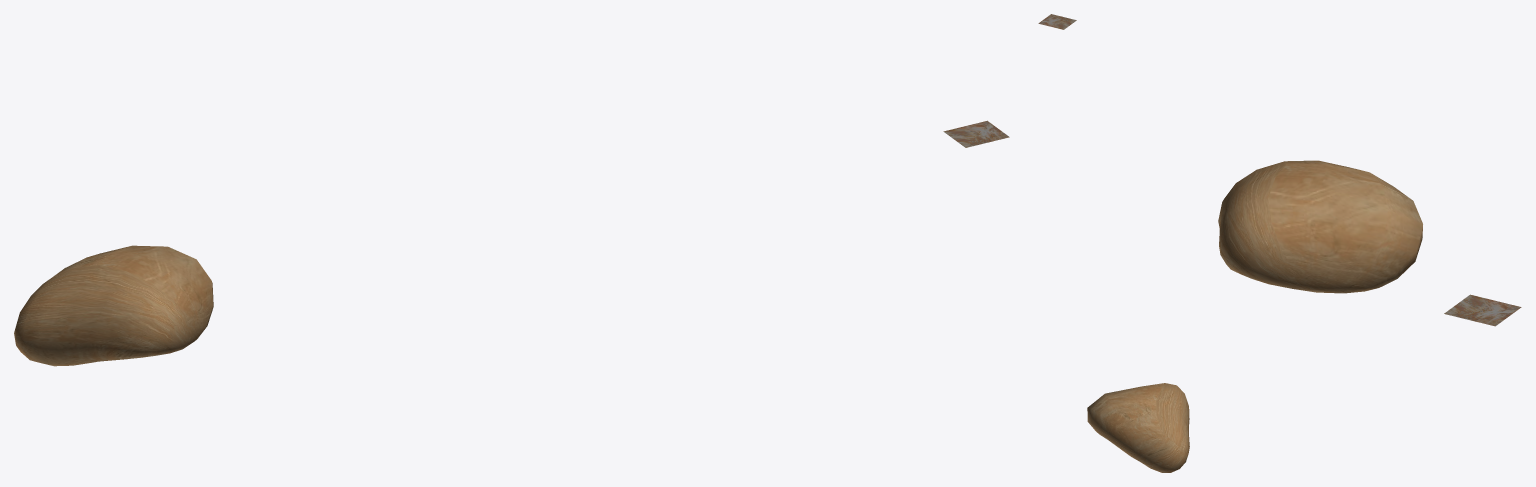
Rendered from rock_5.obj.
The picture shows the model from 3 angles, left to right: view 1: azimuth 30°, elevation 25°; view 2: azimuth 150°, elevation 25°; view 3: azimuth 330°, elevation 25°; orthographic projection. The views are drawn at different scales.
Parts seen in each view (by area): view 1: rock2, light_source_pillar1; view 2: rock2, light_source_pillar1; view 3: rock2, light_source_pillar1.
Boxes of the visible parts, x1,y1,x2,y2 form: rock2: (14, 245, 213, 366); light_source_pillar1: (943, 120, 1009, 147); rock2: (1087, 383, 1189, 472); light_source_pillar1: (1038, 14, 1076, 29); rock2: (1218, 160, 1422, 293); light_source_pillar1: (1444, 294, 1521, 326).
Size of the model in its own units: 20.96 by 11.9 by 23.77.
Materials: 2 (2 with a texture image).
